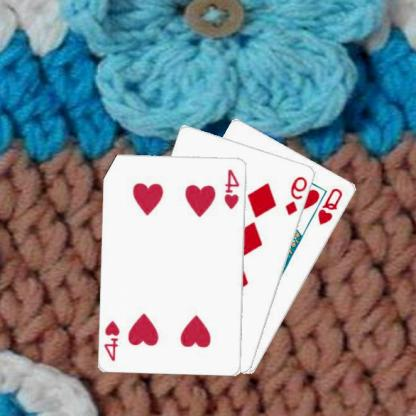4H: (104, 318, 123, 362), (224, 166, 242, 210)
9D: (285, 174, 311, 216)
QH: (318, 185, 347, 226)
